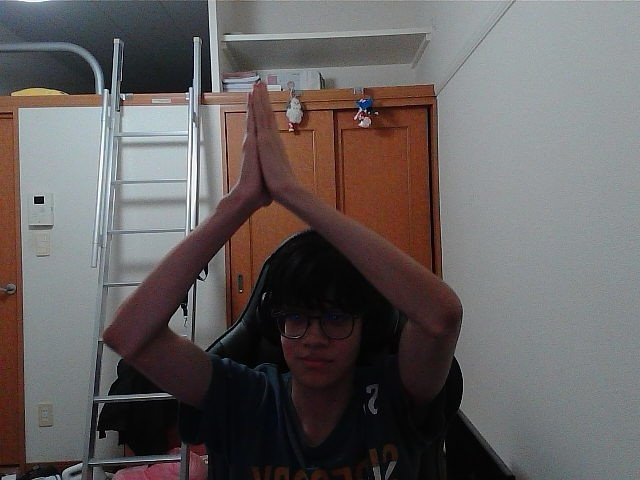pray: (251, 86, 285, 195)
